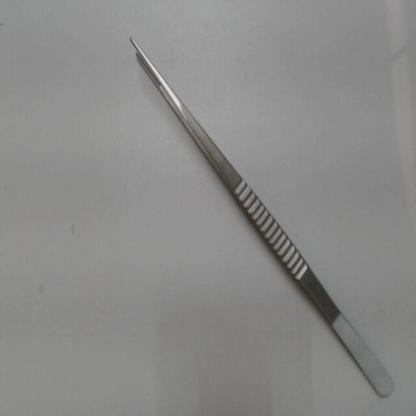DeBakey Dissector: (123, 19, 404, 412)
